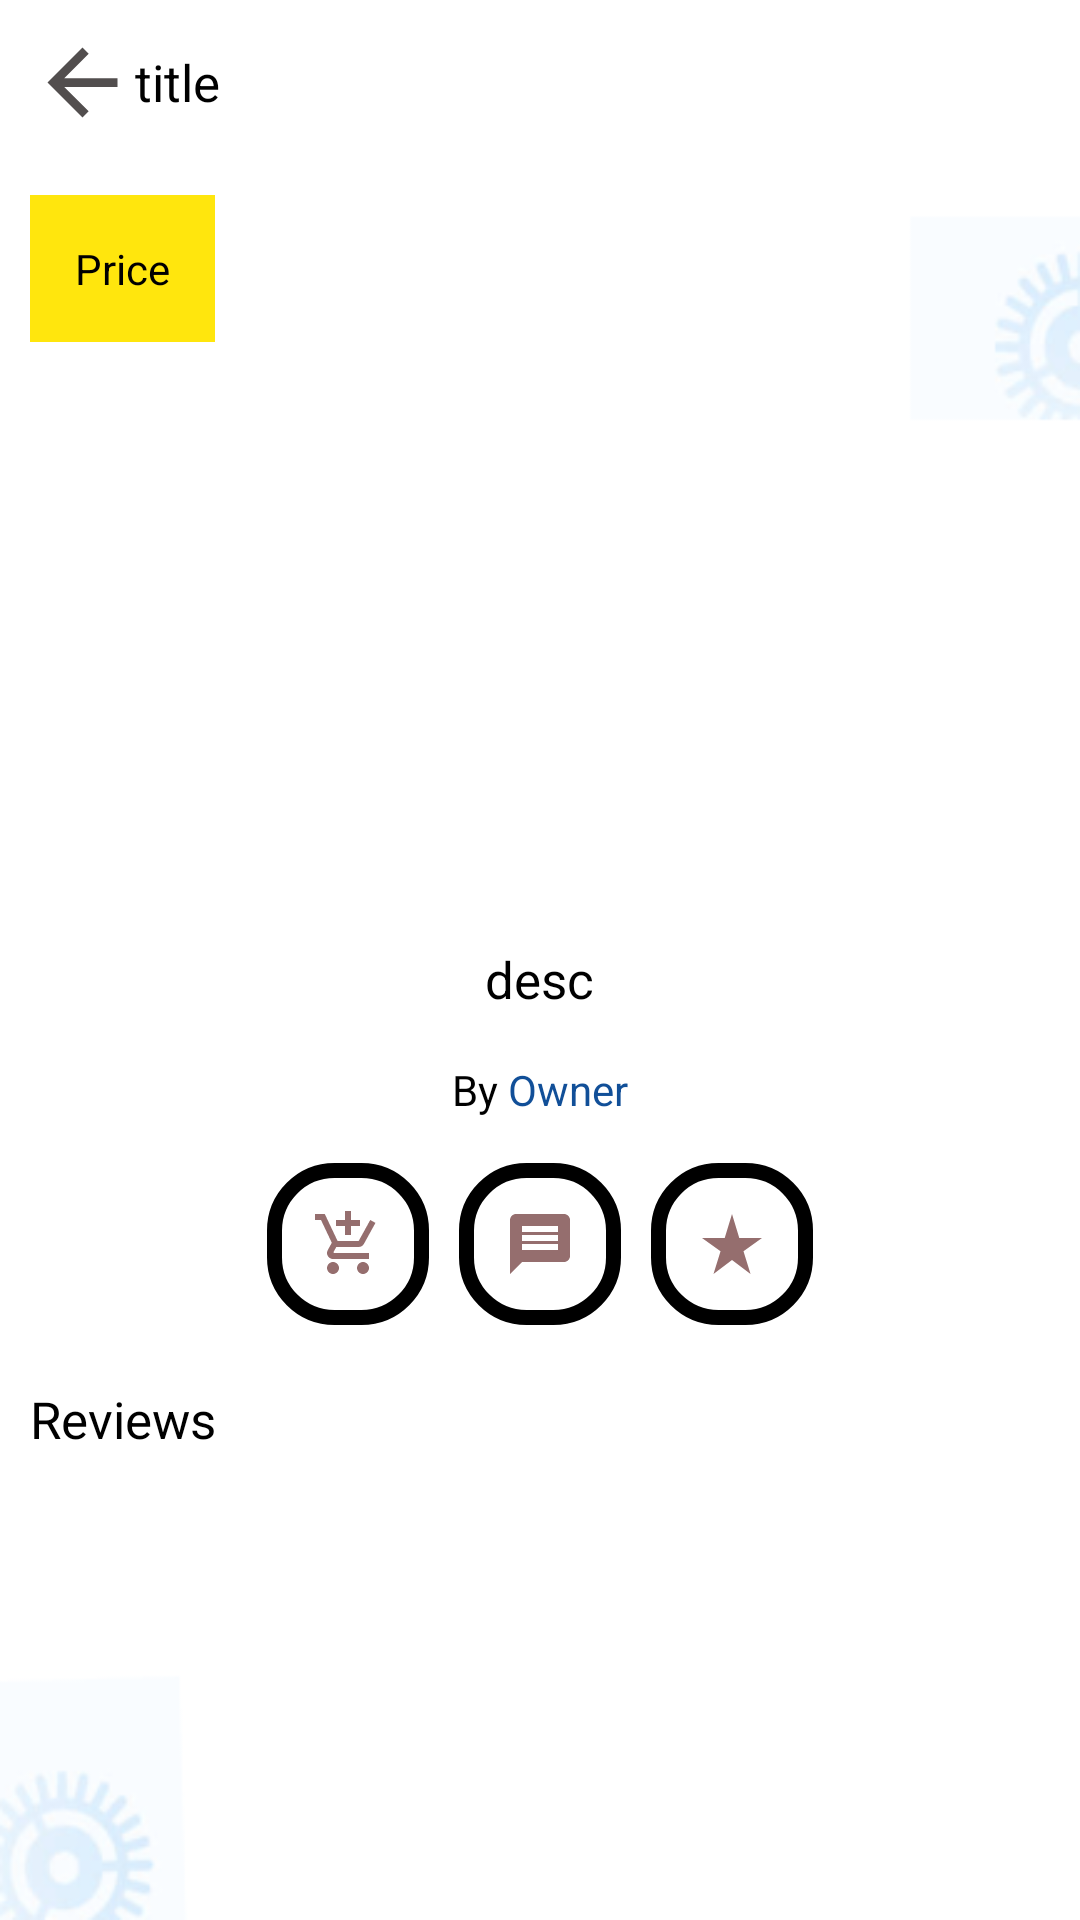

Point at icon controls on the screen. Image size 1080x1920, points as point (x, y).
add shopping cart: point (348, 1244)
arrow back: point (82, 82)
message: point (540, 1244)
star rate: point (732, 1244)
